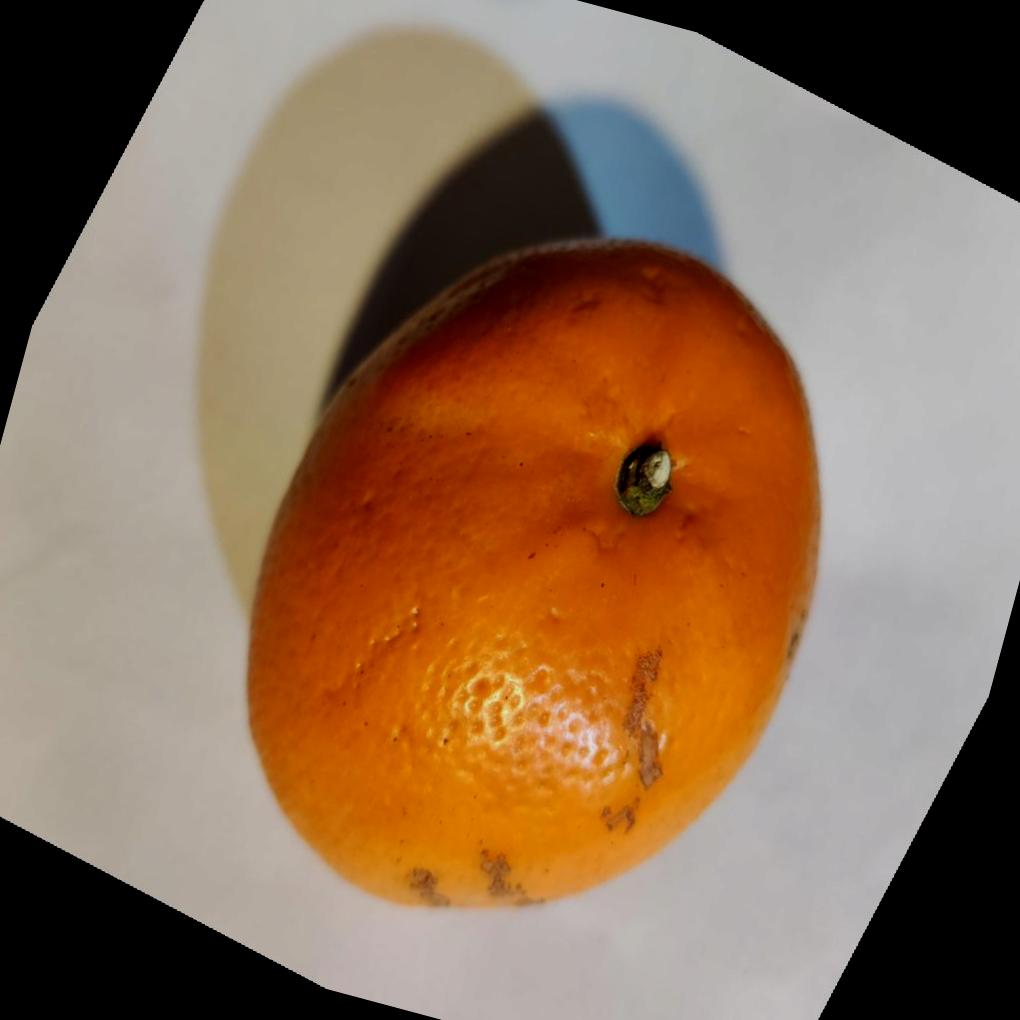FreshGuava: (241, 233, 821, 915)
